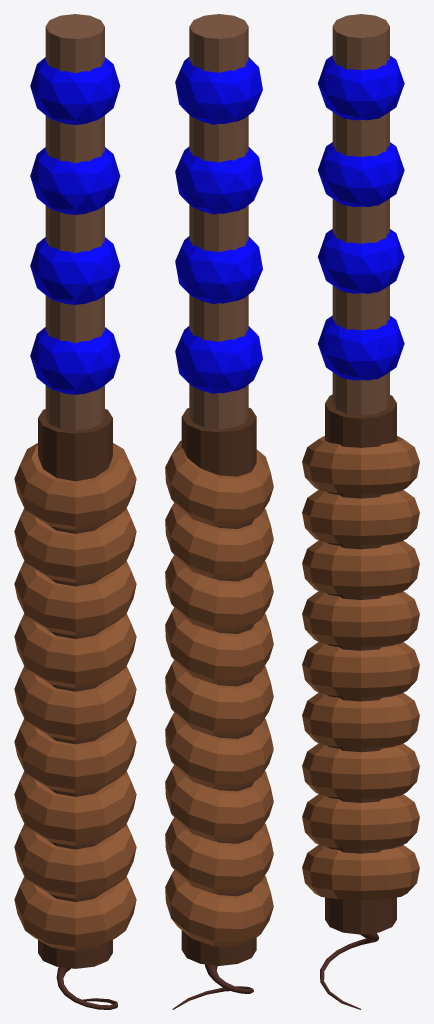
The model's file is Wand 439.glb.
3 views of the same model, side by side, from view 1: azimuth 90°, elevation 25°; view 2: azimuth 150°, elevation 25°; view 3: azimuth 270°, elevation 25° (orthographic). The views are drawn at different scales.
Parts seen in each view (by area): view 1: GeneratedWand; view 2: GeneratedWand; view 3: GeneratedWand.
Part boxes in pixels (<box>): GeneratedWand: <box>14,14,136,1009</box>; GeneratedWand: <box>165,14,273,1009</box>; GeneratedWand: <box>302,14,419,1009</box>.
Bounding box in the file's own units: 0.0508 × 0.5233 × 0.0581.
